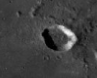crater: (25, 16, 89, 66)
